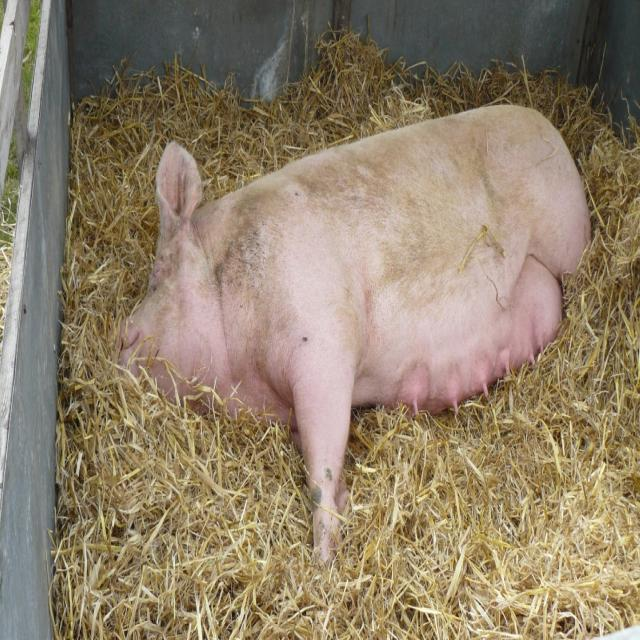pig: (120, 104, 593, 566)
